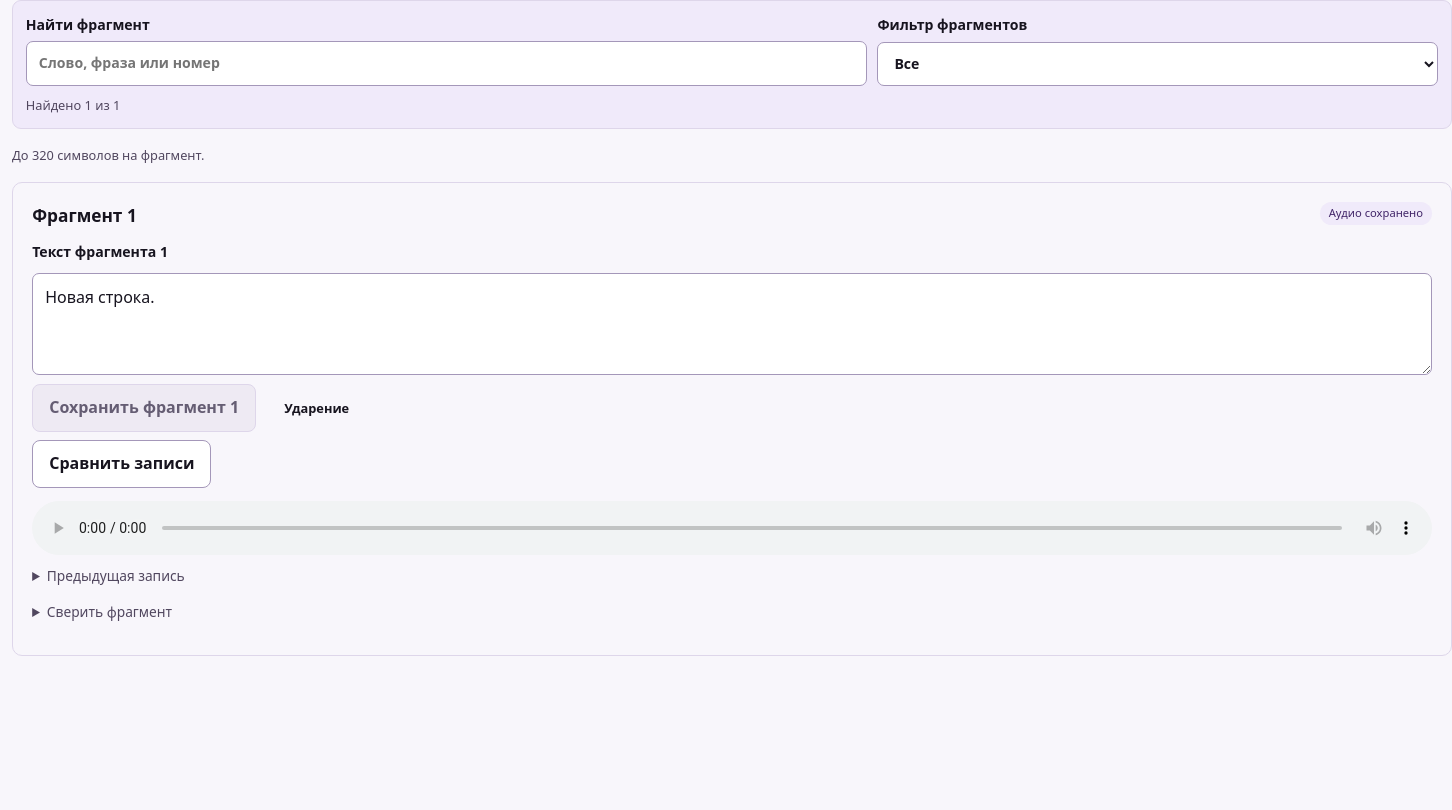
Scenario: plays the previous recording before the current one and cancels a stopped comparison
The image size is (1452, 810).
Later steps or results of the test are not shown.
Click the button with aria-label "Сравнить записи · фрагмент 1".
click(122, 464)  # box [32,440,211,488]
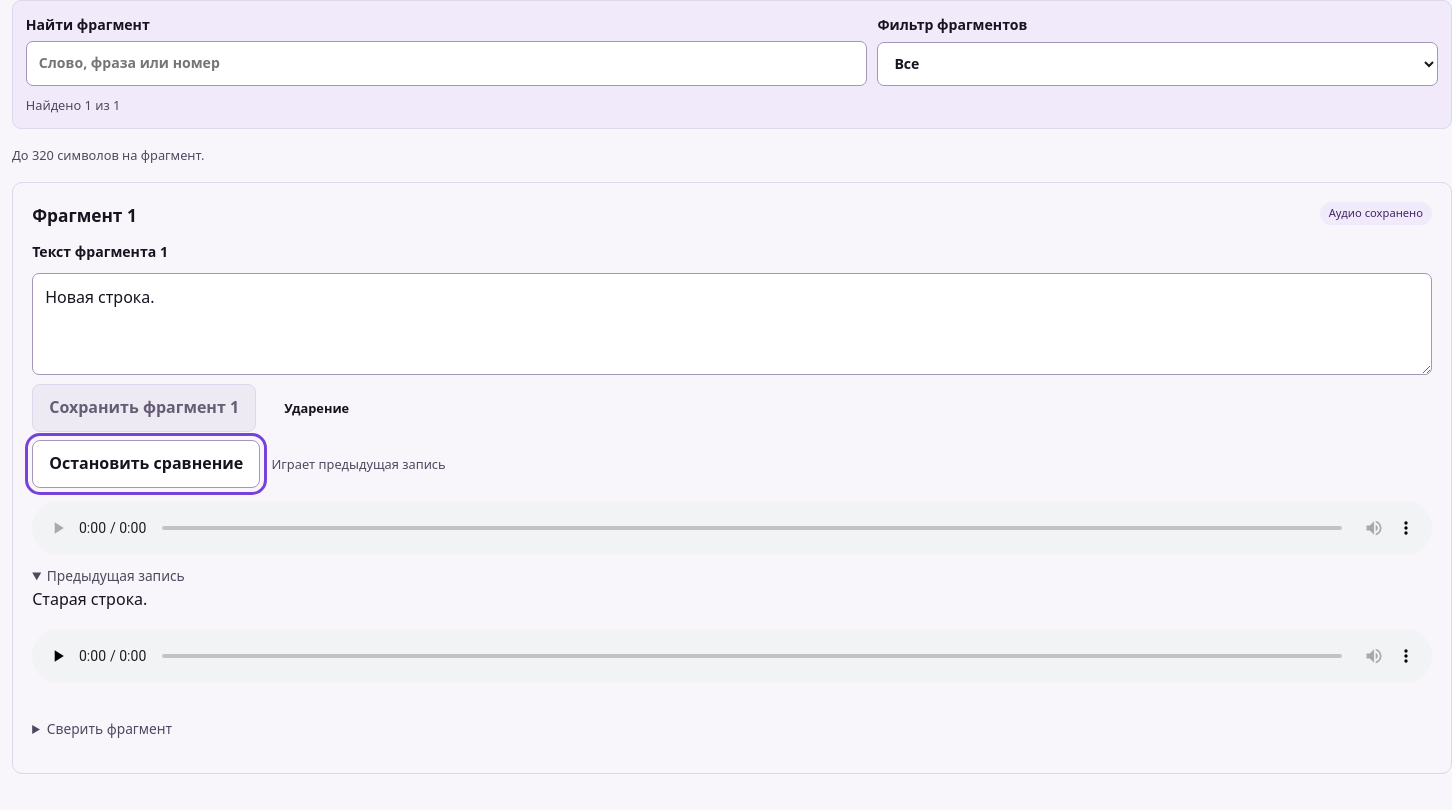
Check: the text "Играет предыдущая запись" is shown, box [272,454,446,474]
